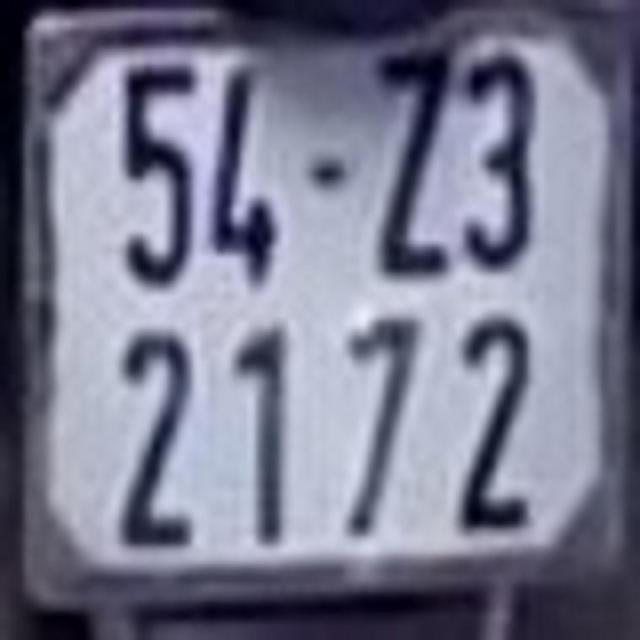1: (228, 320, 292, 551)
2: (116, 330, 198, 552)
3: (466, 51, 536, 260)
4: (214, 63, 276, 284)
5: (120, 61, 194, 302)
7: (337, 312, 421, 540), (459, 324, 544, 532)
Z: (374, 51, 452, 276)
